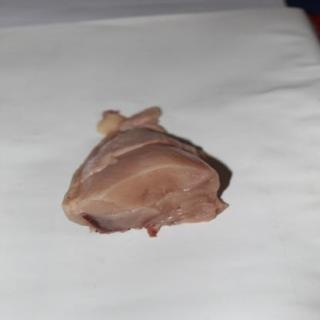Ayam: (64, 109, 231, 231)
